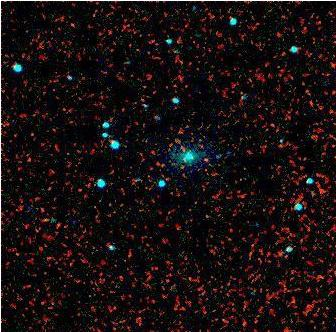star: (189, 141, 219, 171)
